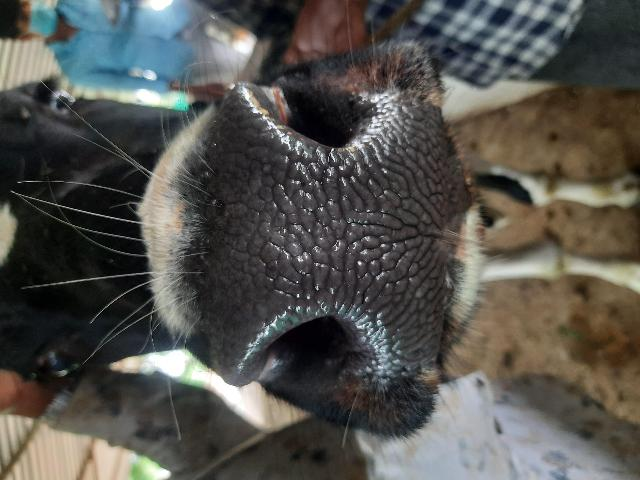Muzzle: (212, 135, 444, 331)
